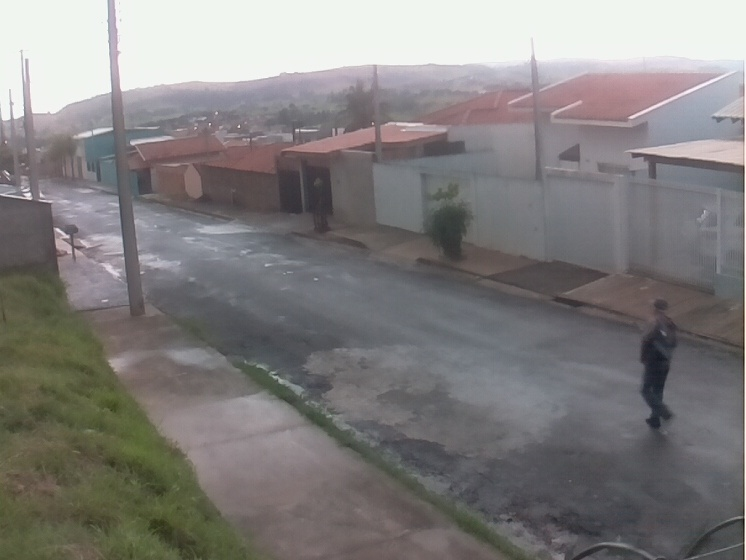person: (638, 296, 681, 429)
